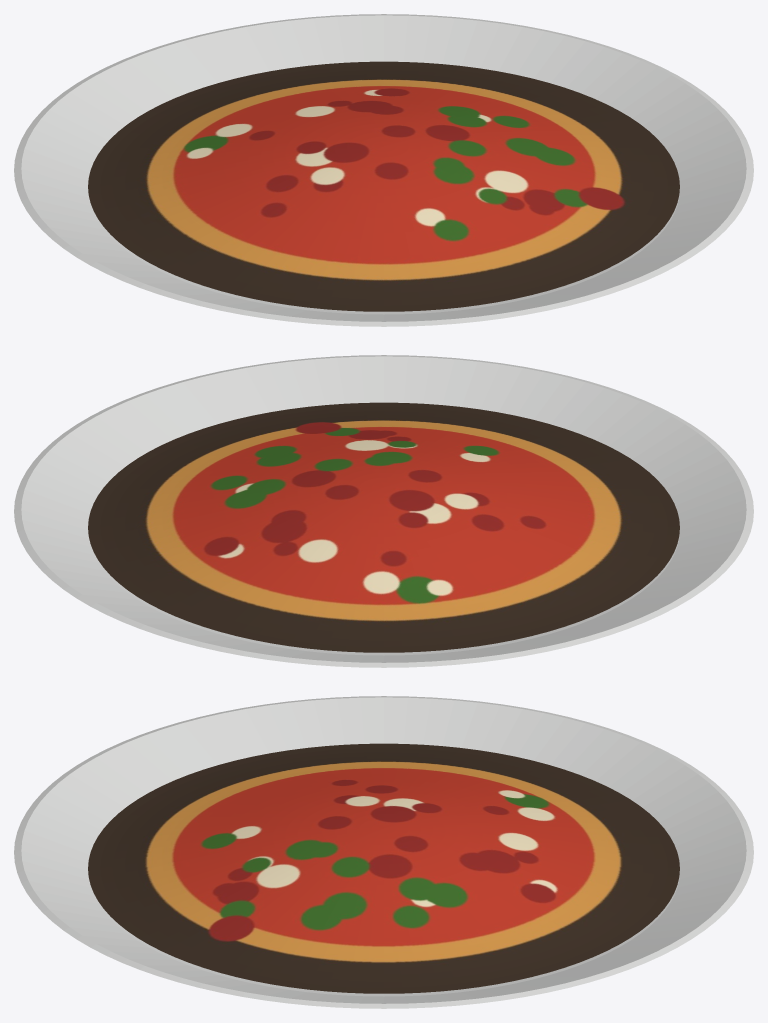
Rendered from pizza.glb.
3 renders of one model, top to bottom at view 1: azimuth 30°, elevation 25°; view 2: azimuth 150°, elevation 25°; view 3: azimuth 270°, elevation 25°, orthographic.
Visible parts, largest first — view 1: comida, prato; view 2: comida, prato; view 3: comida, prato.
Part boxes in pixels (box(x1,y1,x2,y2)): comida: box(88, 61, 679, 311); prato: box(14, 14, 753, 326); comida: box(88, 402, 679, 652); prato: box(14, 355, 753, 667); comida: box(88, 743, 679, 993); prato: box(14, 696, 753, 1008).
Size of the model in its own units: 0.3 by 0.0204 by 0.3.
Materials: 2 (1 with a texture image).
